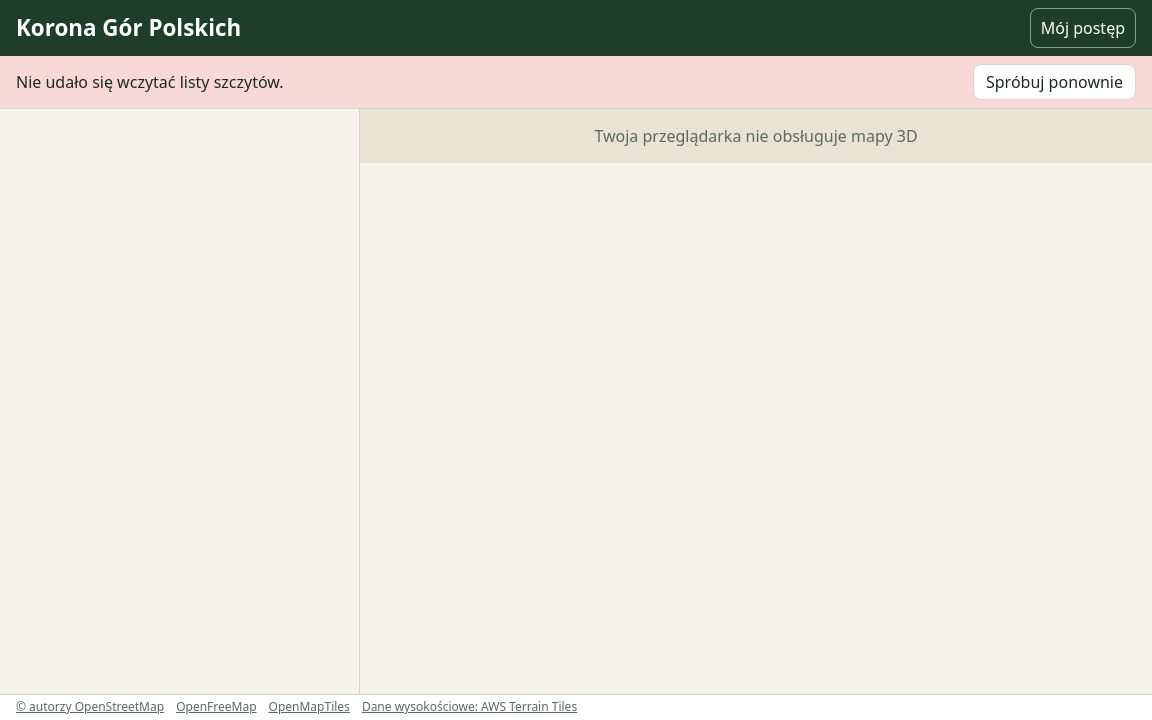
Test case: App › index load failure shows retry which reloads
Check: the text "Nie udało się wczytać listy szczytów." is shown, box [16,71,284,93]
Click the button "Spróbuj ponownie" at [1054, 82], box [973,64,1136,100]
(page scrolled)
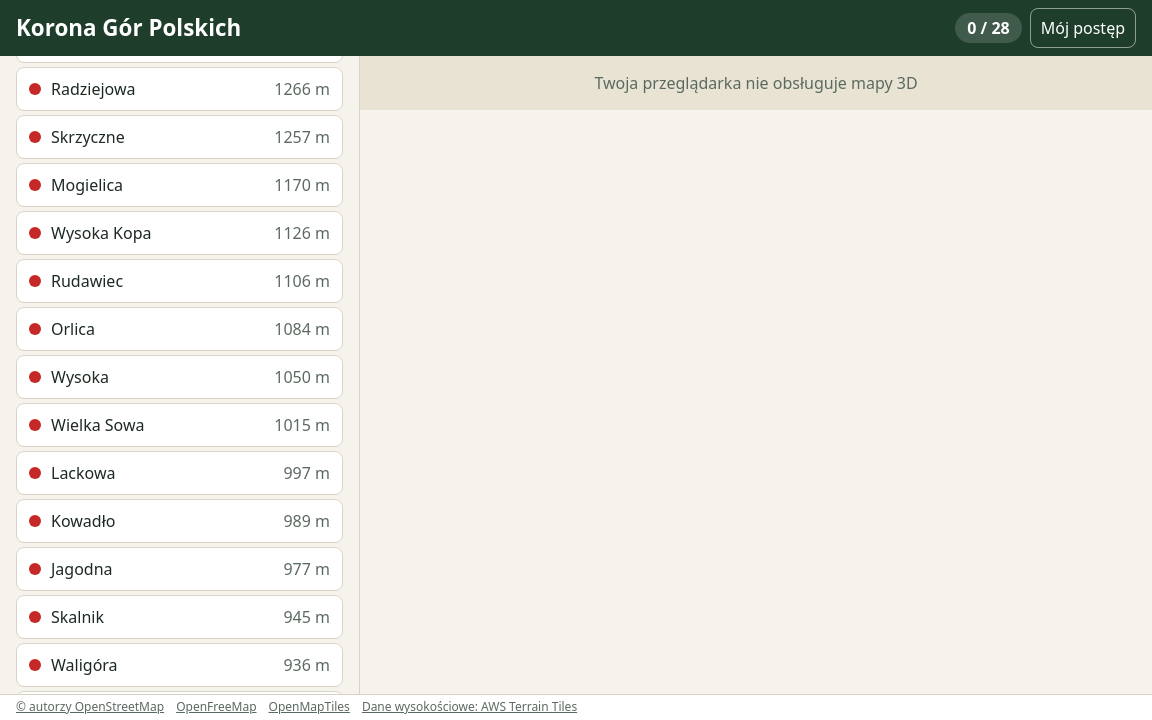
Check: the text "Nie udało się wczytać listy szczytów." is gone
